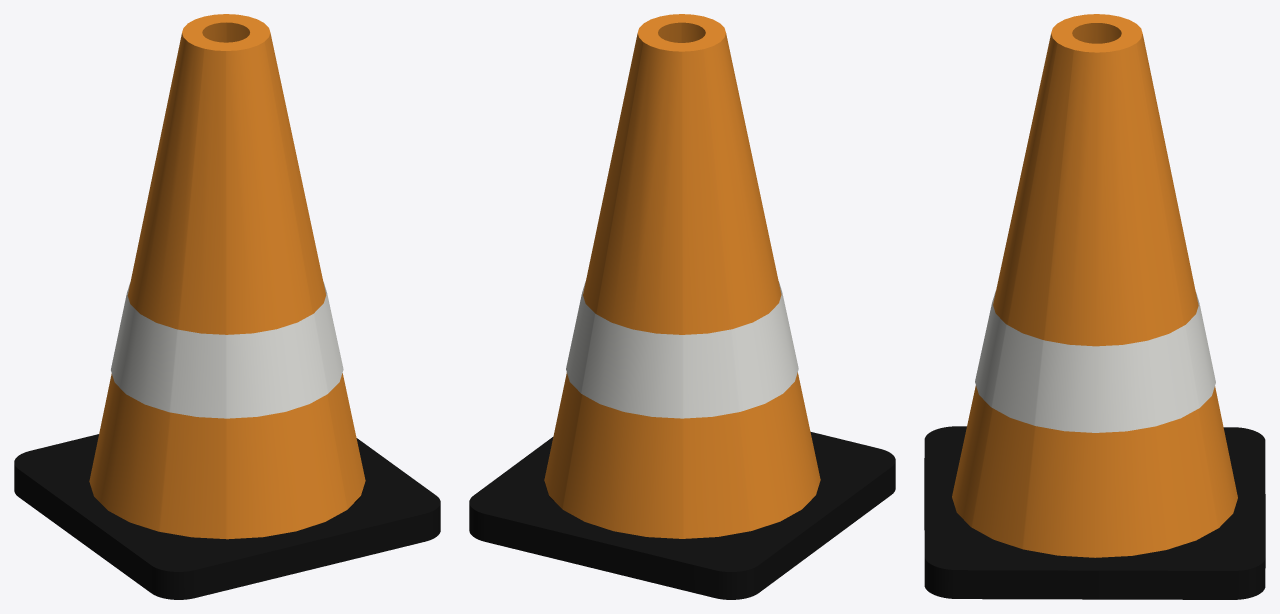
The model's file is standard_cone.glb.
3 renders of one model, left to right at view 1: azimuth 30°, elevation 25°; view 2: azimuth 150°, elevation 25°; view 3: azimuth 270°, elevation 25°, orthographic. The views are drawn at different scales.
Visible parts, largest first — view 1: Cone, Base, Stripe; view 2: Cone, Base, Stripe; view 3: Cone, Base, Stripe.
Part boxes in pixels (bbox=[...]): Cone: bbox=[89, 14, 365, 539]; Base: bbox=[14, 434, 440, 599]; Stripe: bbox=[111, 282, 343, 418]; Cone: bbox=[544, 14, 820, 538]; Base: bbox=[469, 431, 895, 599]; Stripe: bbox=[566, 281, 798, 418]; Cone: bbox=[952, 14, 1237, 557]; Base: bbox=[924, 426, 1265, 599]; Stripe: bbox=[975, 291, 1215, 432].
Bounding box in the file's own units: 0.2855 × 0.4572 × 0.2855.
